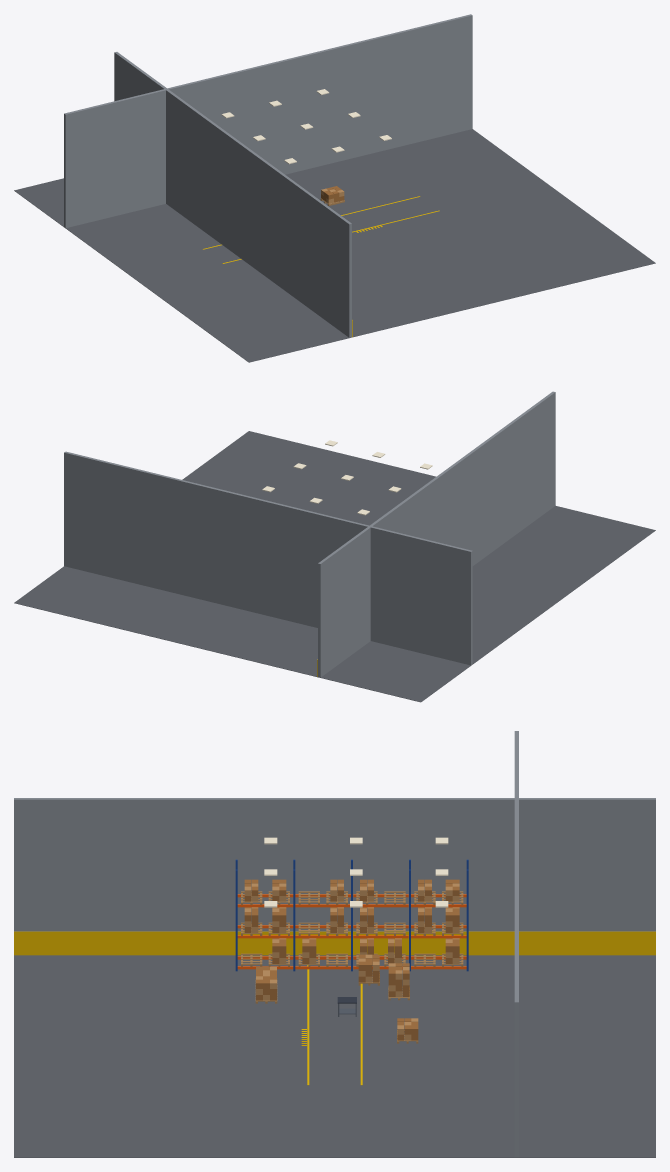
The model's file is galpao.fbx.
3 views of the same model, one above another, from view 1: azimuth 30°, elevation 25°; view 2: azimuth 150°, elevation 25°; view 3: azimuth 270°, elevation 25° (orthographic). The views are drawn at different scales.
Visible parts, largest first — view 1: Piso, ParedeLado, ParedeFundo; view 2: Piso, ParedeLado, ParedeFundo; view 3: Piso, ParedeFundo, PortaPallets, Rodape, PalletsPiso, ParedeLado.
Boxes of the visible parts, box(x1,y1,x2,y2) form: Piso: box(14, 129, 655, 362); ParedeLado: box(64, 14, 472, 227); ParedeFundo: box(114, 52, 351, 337); Piso: box(14, 431, 655, 702); ParedeLado: box(64, 451, 472, 665); ParedeFundo: box(318, 391, 555, 677); Piso: box(14, 955, 655, 1157); ParedeFundo: box(14, 798, 655, 931); PortaPallets: box(235, 859, 468, 971); Rodape: box(14, 931, 655, 955); PalletsPiso: box(255, 954, 418, 1043); ParedeLado: box(514, 731, 518, 1157).
Bounding box in the file's own units: 30 × 8.02 × 30.
